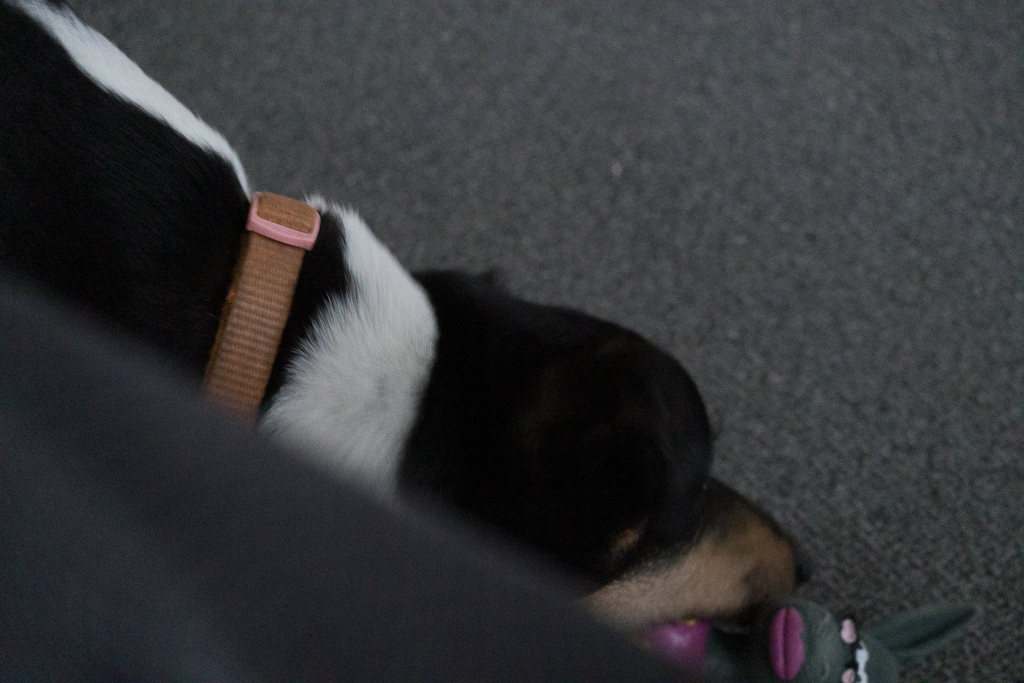Dog: (0, 0, 822, 650)
Humanoid: (592, 584, 989, 683)
